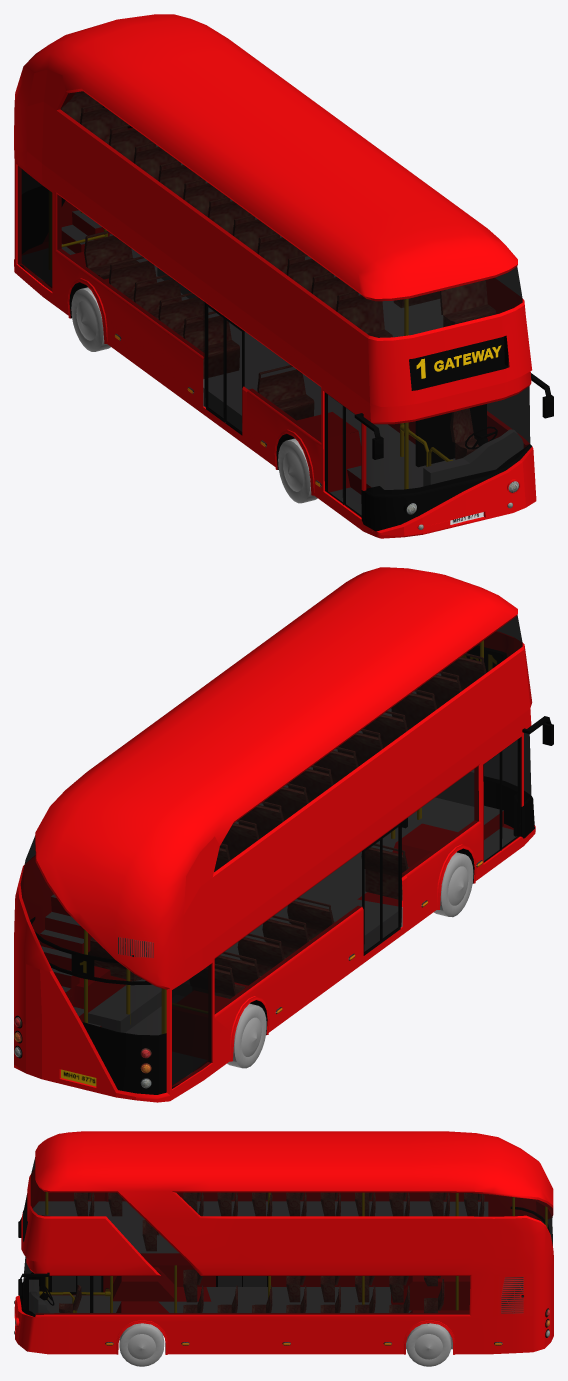
File: Bus_12.fbx
The picture shows the model from 3 angles, top to bottom: view 1: azimuth 30°, elevation 25°; view 2: azimuth 150°, elevation 25°; view 3: azimuth 270°, elevation 25°; orthographic projection. The views are drawn at different scales.
Parts seen in each view (by area): view 1: Bus_12body, WindowGlass, Bus_12_L_DoorGlass, Bus_12_R_DoorGlass, FL, RL; view 2: Bus_12body, WindowGlass, Bus_12_L_DoorGlass, Bus_12_R_DoorGlass, RL, FL; view 3: Bus_12body, WindowGlass, FR, RR, Bus_12_L_DoorGlass.
Boxes of the visible parts, <box> form: Bus_12body: <box>14,14,553,538</box>; WindowGlass: <box>17,91,530,494</box>; Bus_12_L_DoorGlass: <box>342,405,361,517</box>; Bus_12_R_DoorGlass: <box>325,392,342,503</box>; FL: <box>278,438,317,503</box>; RL: <box>71,287,110,351</box>; Bus_12body: <box>14,567,553,1102</box>; WindowGlass: <box>20,615,531,1088</box>; Bus_12_L_DoorGlass: <box>501,737,521,849</box>; Bus_12_R_DoorGlass: <box>483,751,501,862</box>; RL: <box>227,1003,266,1068</box>; FL: <box>434,852,473,917</box>; Bus_12body: <box>14,1131,553,1354</box>; WindowGlass: <box>23,1157,552,1314</box>; FR: <box>119,1323,164,1366</box>; RR: <box>406,1323,451,1366</box>; Bus_12_L_DoorGlass: <box>52,1276,75,1291</box>.
Size of the model in its own units: 309 by 465 by 1160.
